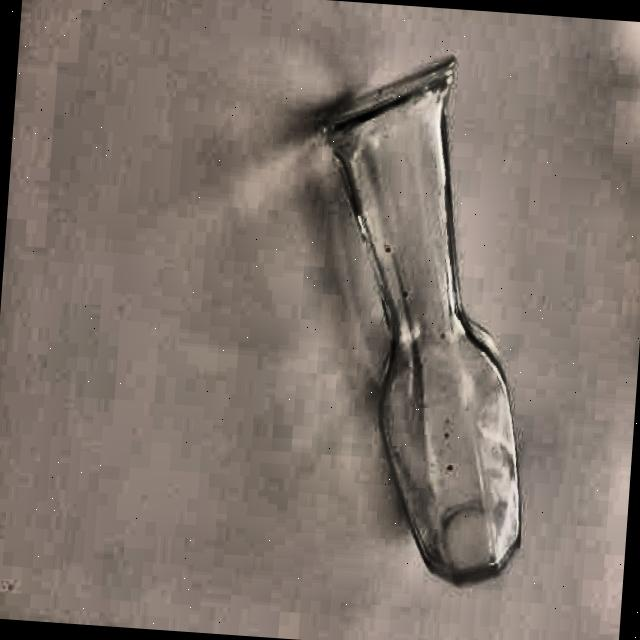glass: (296, 49, 554, 596)
